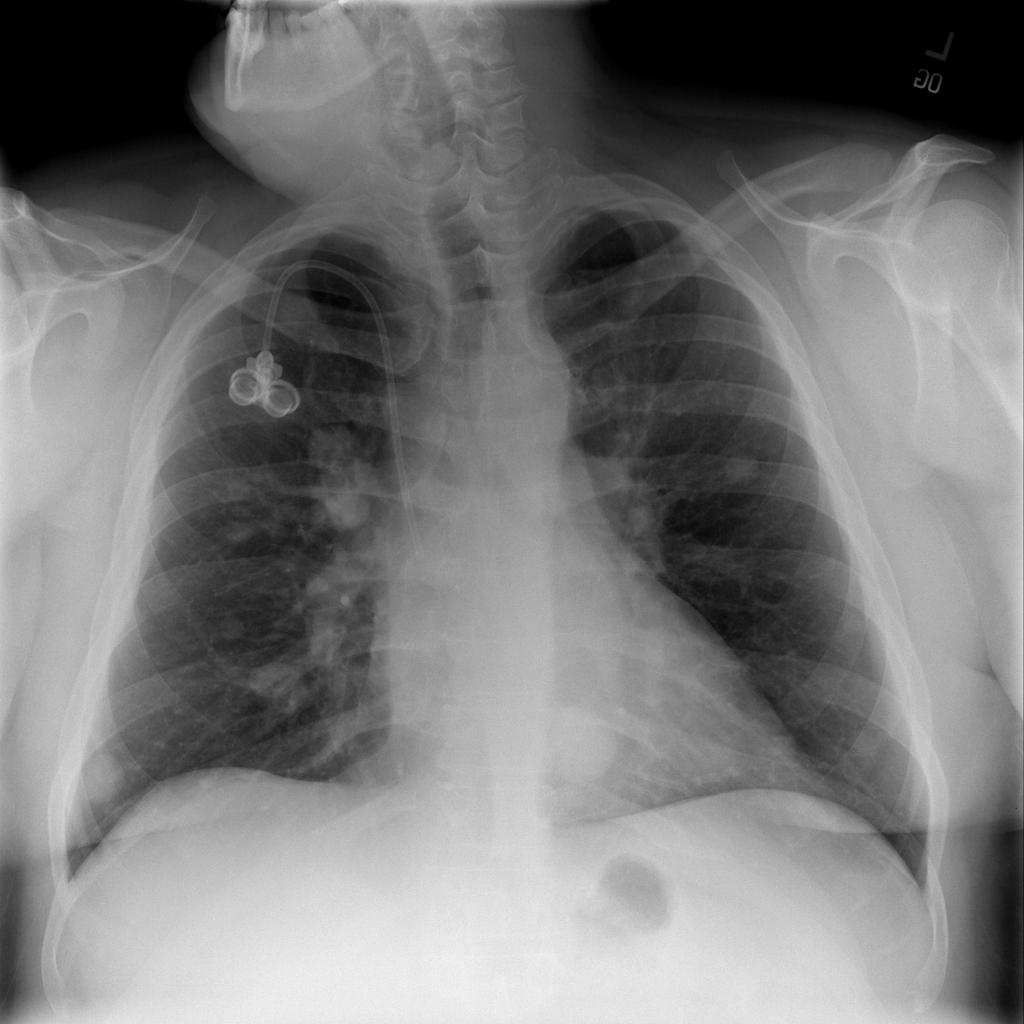nodule: (533, 691, 635, 798), (68, 737, 142, 814), (241, 655, 323, 723), (706, 431, 780, 501), (208, 499, 263, 548), (203, 605, 258, 650), (833, 604, 869, 645)
